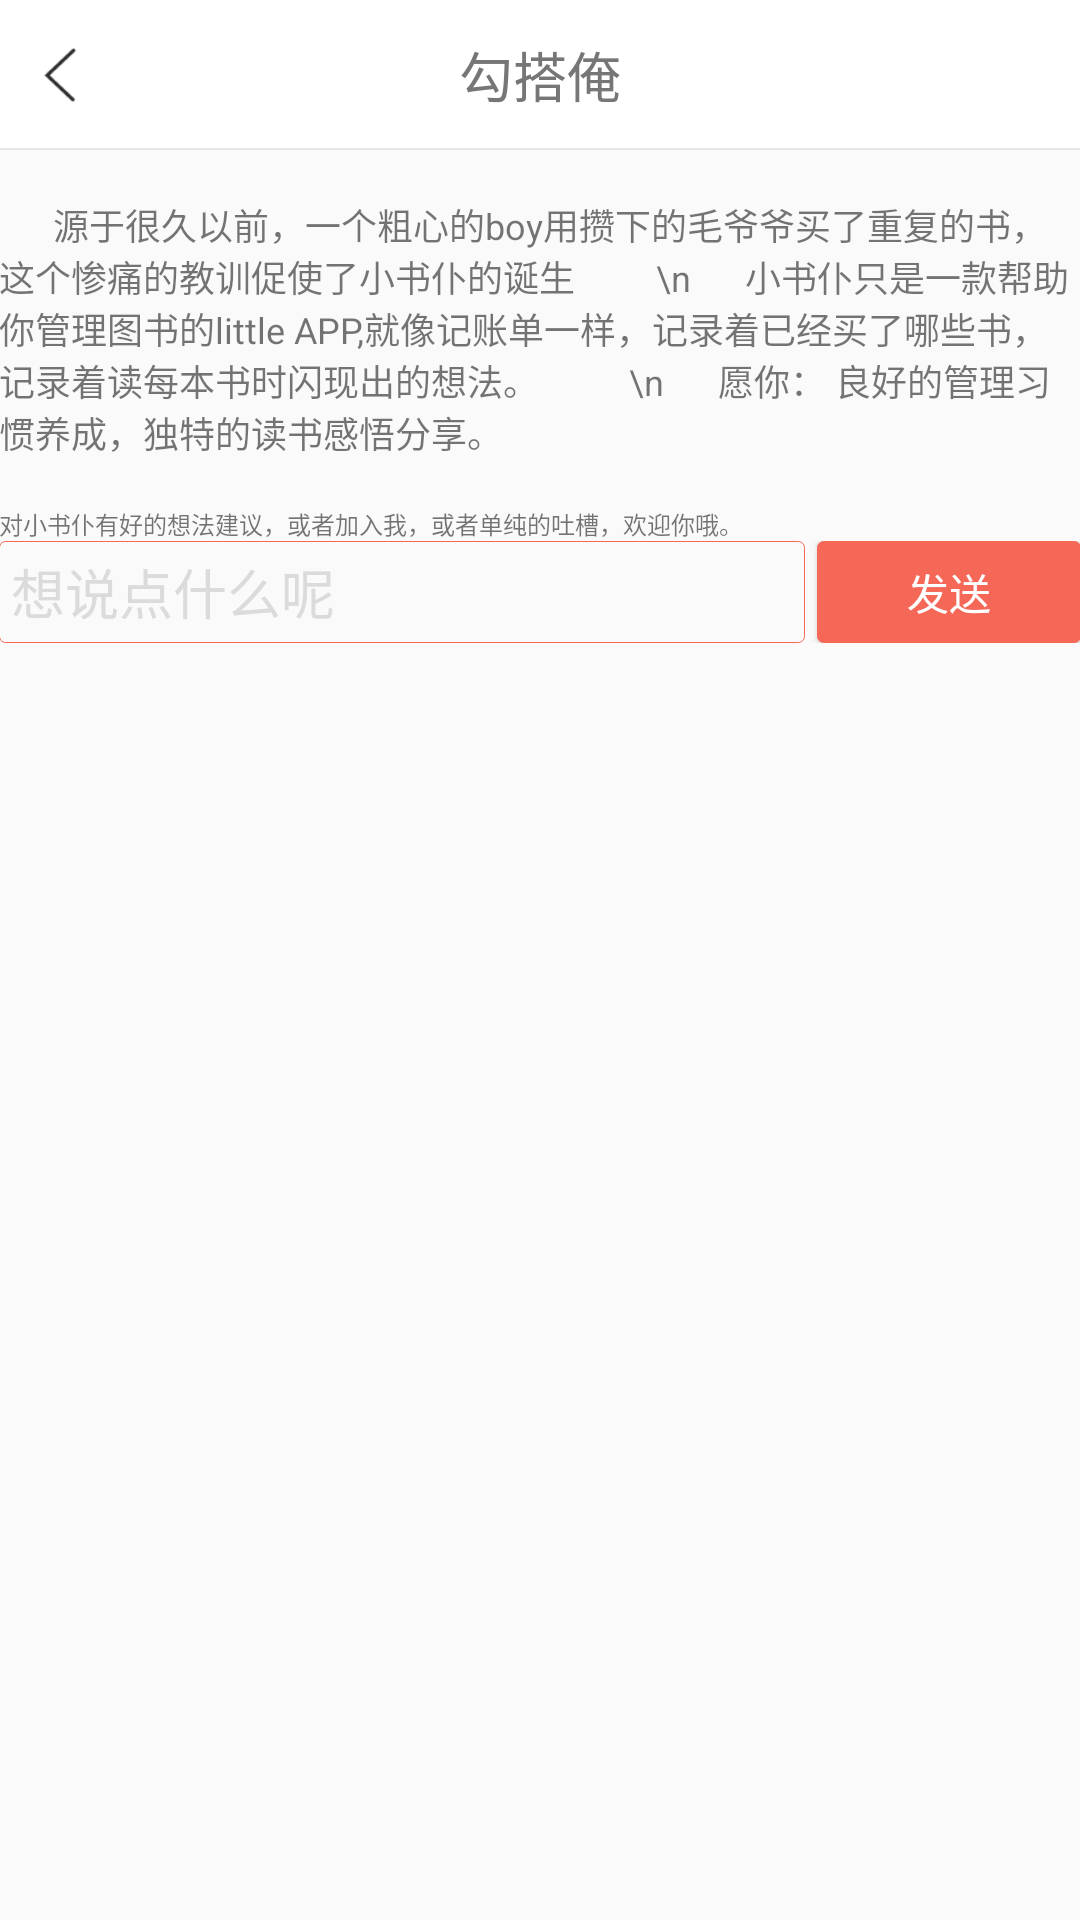

Locate icon controls on the screen. Image size 1080*1920, boxes as (x1, y1, x2, y2).
back: (44, 48, 76, 102)
